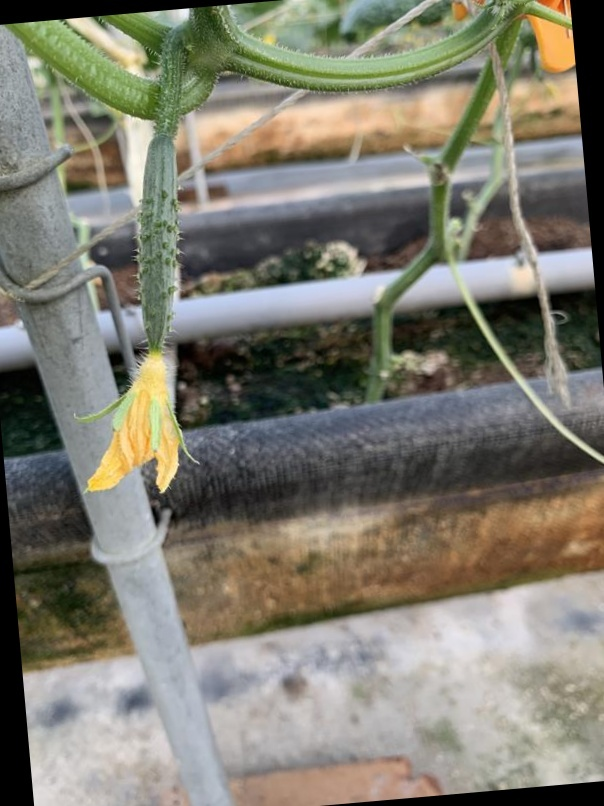bear: (65, 125, 217, 495)
